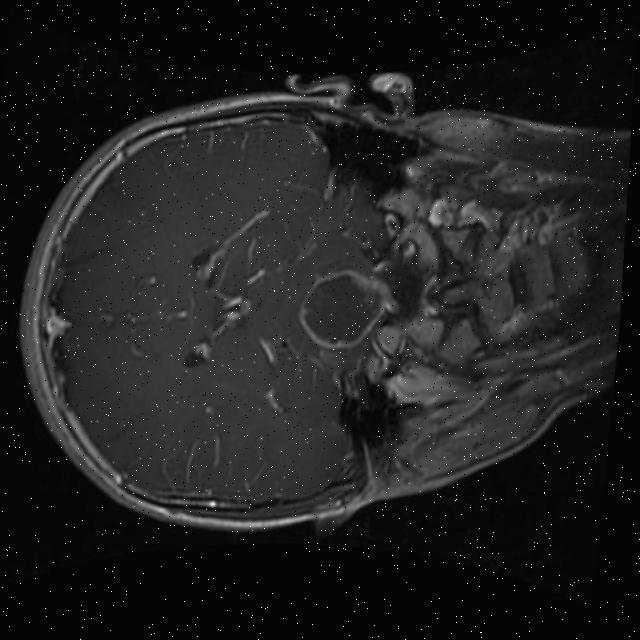Glioma: (295, 263, 399, 352)
